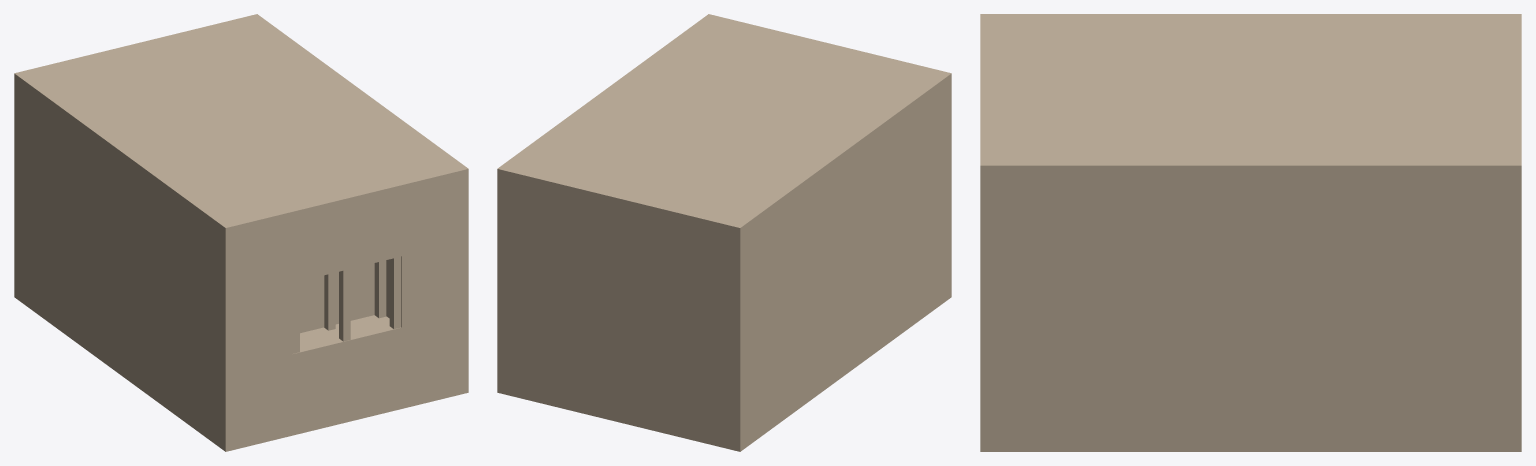
Rendered from massing.glb.
3 views of the same model, side by side, from view 1: azimuth 30°, elevation 25°; view 2: azimuth 150°, elevation 25°; view 3: azimuth 270°, elevation 25° (orthographic). The views are drawn at different scales.
Visible parts, largest first — view 1: building/exterior; view 2: building/exterior; view 3: building/exterior.
Boxes of the visible parts, box(x1,y1,x2,y2) form: building/exterior: box(14, 14, 468, 451); building/exterior: box(497, 14, 951, 451); building/exterior: box(980, 14, 1521, 451).
Bounding box in the file's own units: 10 × 8.8 × 15.07.
